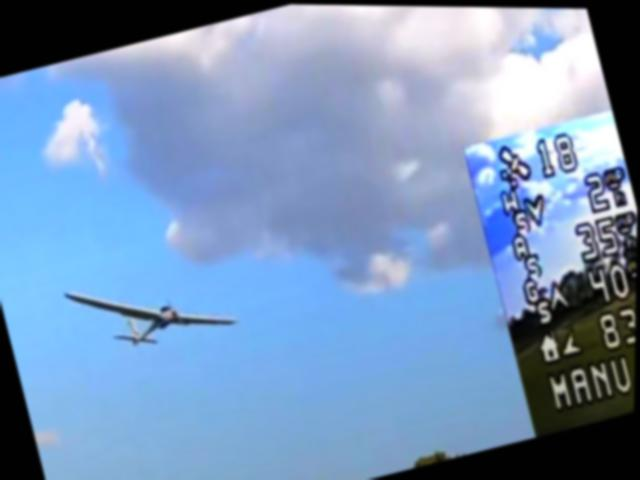iha: (64, 248, 242, 370)
